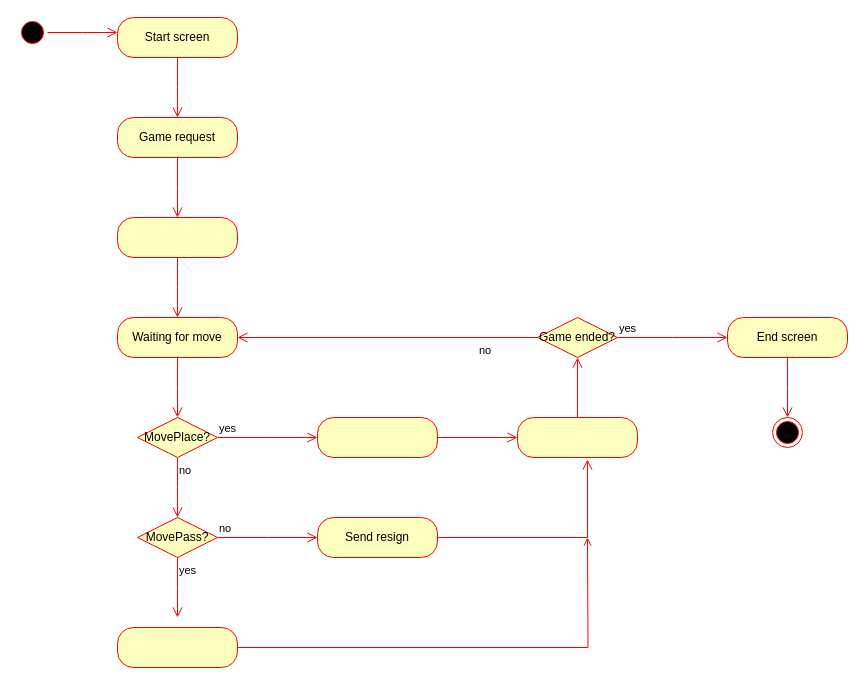
Some shapes in this 865 by 685 pixel diagram are drawn without their labels. The shapes that lost their labels are listed below. From the top down, each one's centre as x and y in pixels, then its label:
At point (177, 237): "Board creation".
At point (377, 437): "Send move".
At point (577, 437): "Get response".
At point (177, 647): "Send pass".
